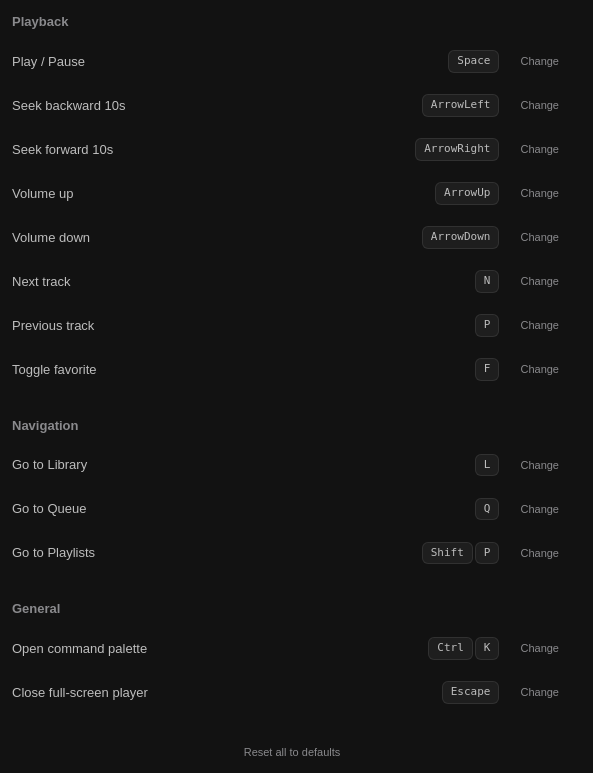
KeyboardShortcutsSettings › pressing Escape while listening cancels without rebinding
The width and height of the screenshot is (593, 773).
Click the button "Change" in the row of "Toggle favorite": (540, 370) [508,356,572,384]
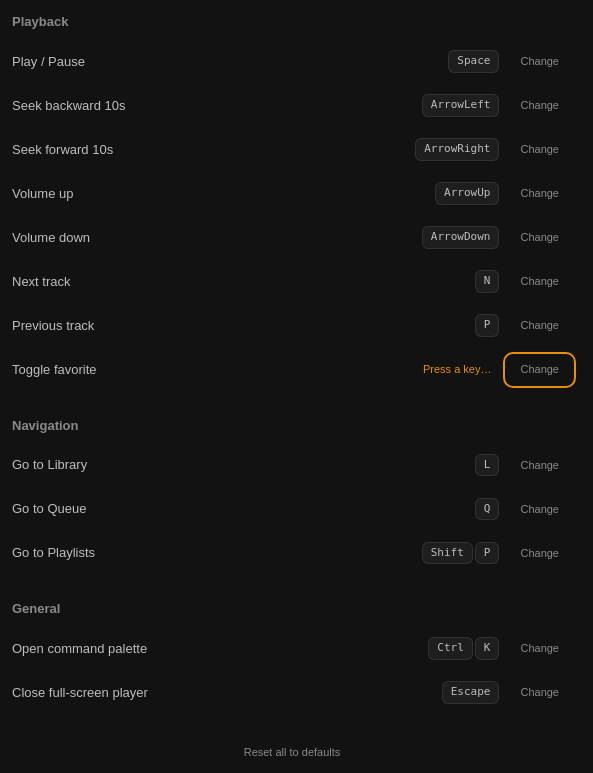
Press Escape
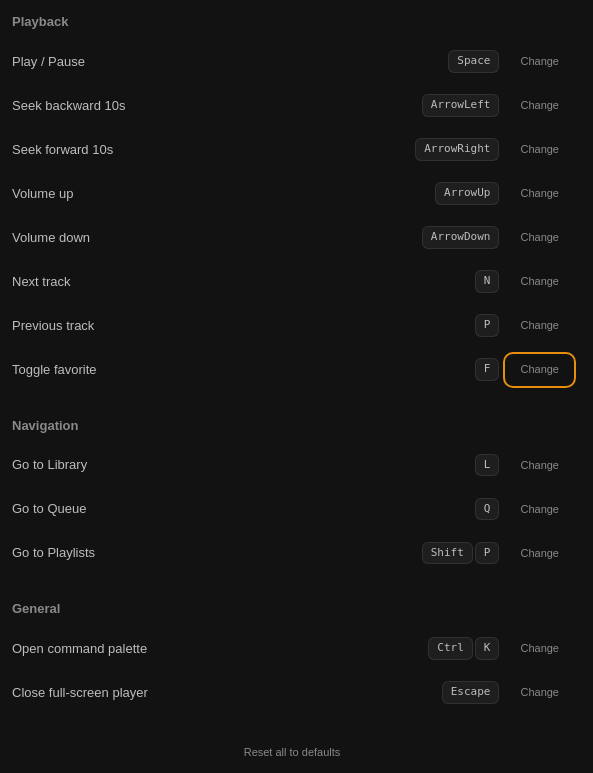
Now the text "Press a key…" is gone
